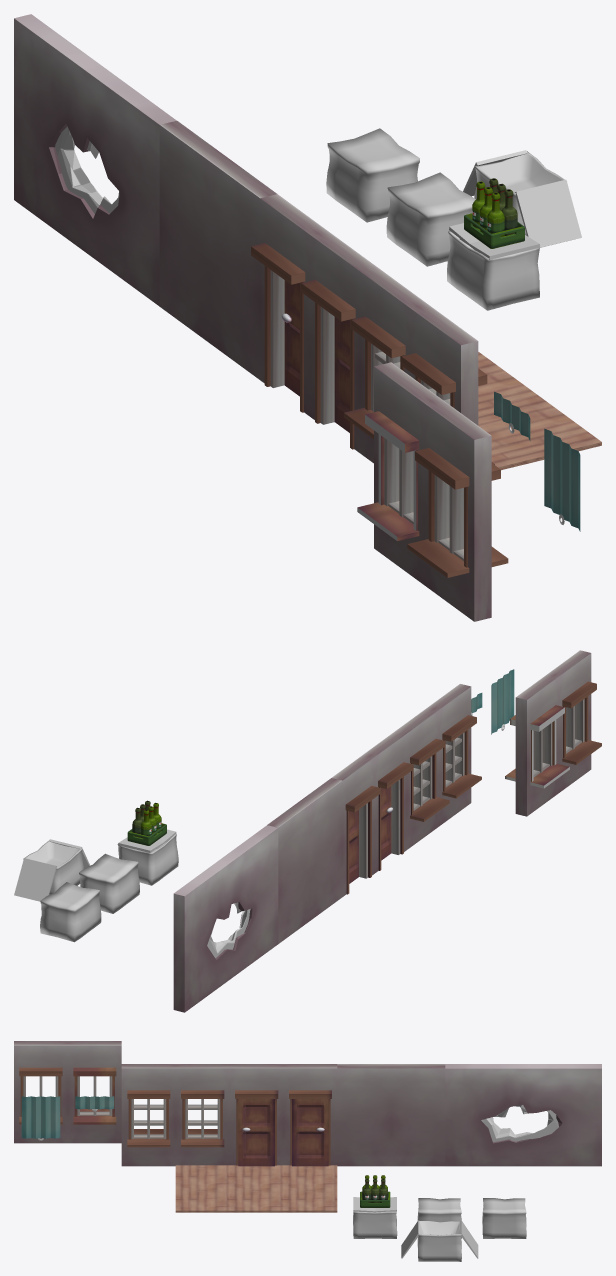
Rendered from WallTile.fbx.
The picture shows the model from 3 angles, top to bottom: view 1: azimuth 30°, elevation 25°; view 2: azimuth 150°, elevation 25°; view 3: azimuth 270°, elevation 25°; orthographic projection. The views are drawn at different scales.
Visible parts, largest first — view 1: Cube.005, Cube.040, Cube.004, Cube.056, Cube.104, Cube.088, Cube.073, Cube.102, Cube.026, Cube.087, Cube.001, Cube.076 (+25 smaller); view 2: Cube.005, Cube.040, Cube.004, Cube.073, Cube.104, Cube.088, Cube.026, Cube.056, Cube.076, Cube.087, Cube.001, Cube.102 (+13 smaller); view 3: Cube.005, Cube.004, Cube.040, Cube.026, Cube.076, Cube.073, Cube.056, Cube.087, Cube.001, Cube.108, Cube.115, Cube.104 (+23 smaller).
Boxes of the visible parts, x1,y1,x2,y2 form: Cube.005: [14, 14, 176, 306]; Cube.040: [159, 120, 226, 343]; Cube.004: [210, 157, 276, 379]; Cube.056: [424, 399, 491, 621]; Cube.104: [326, 128, 419, 222]; Cube.088: [386, 172, 475, 266]; Cube.073: [374, 362, 440, 584]; Cube.102: [447, 231, 540, 310]; Cube.026: [410, 304, 478, 425]; Cube.087: [260, 194, 327, 416]; Cube.001: [310, 231, 377, 453]; Cube.076: [360, 267, 427, 463]; Cube.005: [173, 825, 278, 1012]; Cube.040: [267, 801, 310, 943]; Cube.004: [299, 778, 342, 920]; Cube.073: [515, 674, 558, 816]; Cube.104: [40, 882, 101, 942]; Cube.088: [79, 853, 139, 913]; Cube.026: [428, 684, 471, 826]; Cube.056: [548, 650, 591, 792]; Cube.076: [396, 707, 438, 849]; Cube.087: [332, 754, 374, 896]; Cube.001: [364, 731, 406, 873]; Cube.102: [117, 833, 178, 885]; Cube.005: [445, 1064, 601, 1166]; Cube.004: [337, 1064, 391, 1166]; Cube.040: [391, 1064, 445, 1166]; Cube.026: [121, 1064, 175, 1166]; Cube.076: [175, 1064, 229, 1165]; Cube.073: [68, 1041, 121, 1143]; Cube.056: [14, 1041, 67, 1143]; Cube.087: [283, 1064, 337, 1165]; Cube.001: [229, 1064, 283, 1165]; Cube.108: [238, 1099, 274, 1166]; Cube.115: [292, 1099, 328, 1166]; Cube.104: [482, 1198, 526, 1238].
Bounding box in the file's own units: 2828 × 1010 × 5453.
